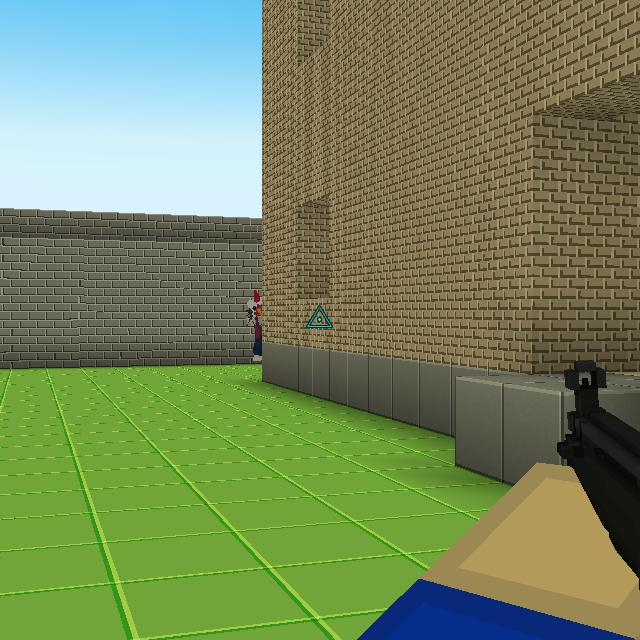enemy: (245, 288, 263, 362)
